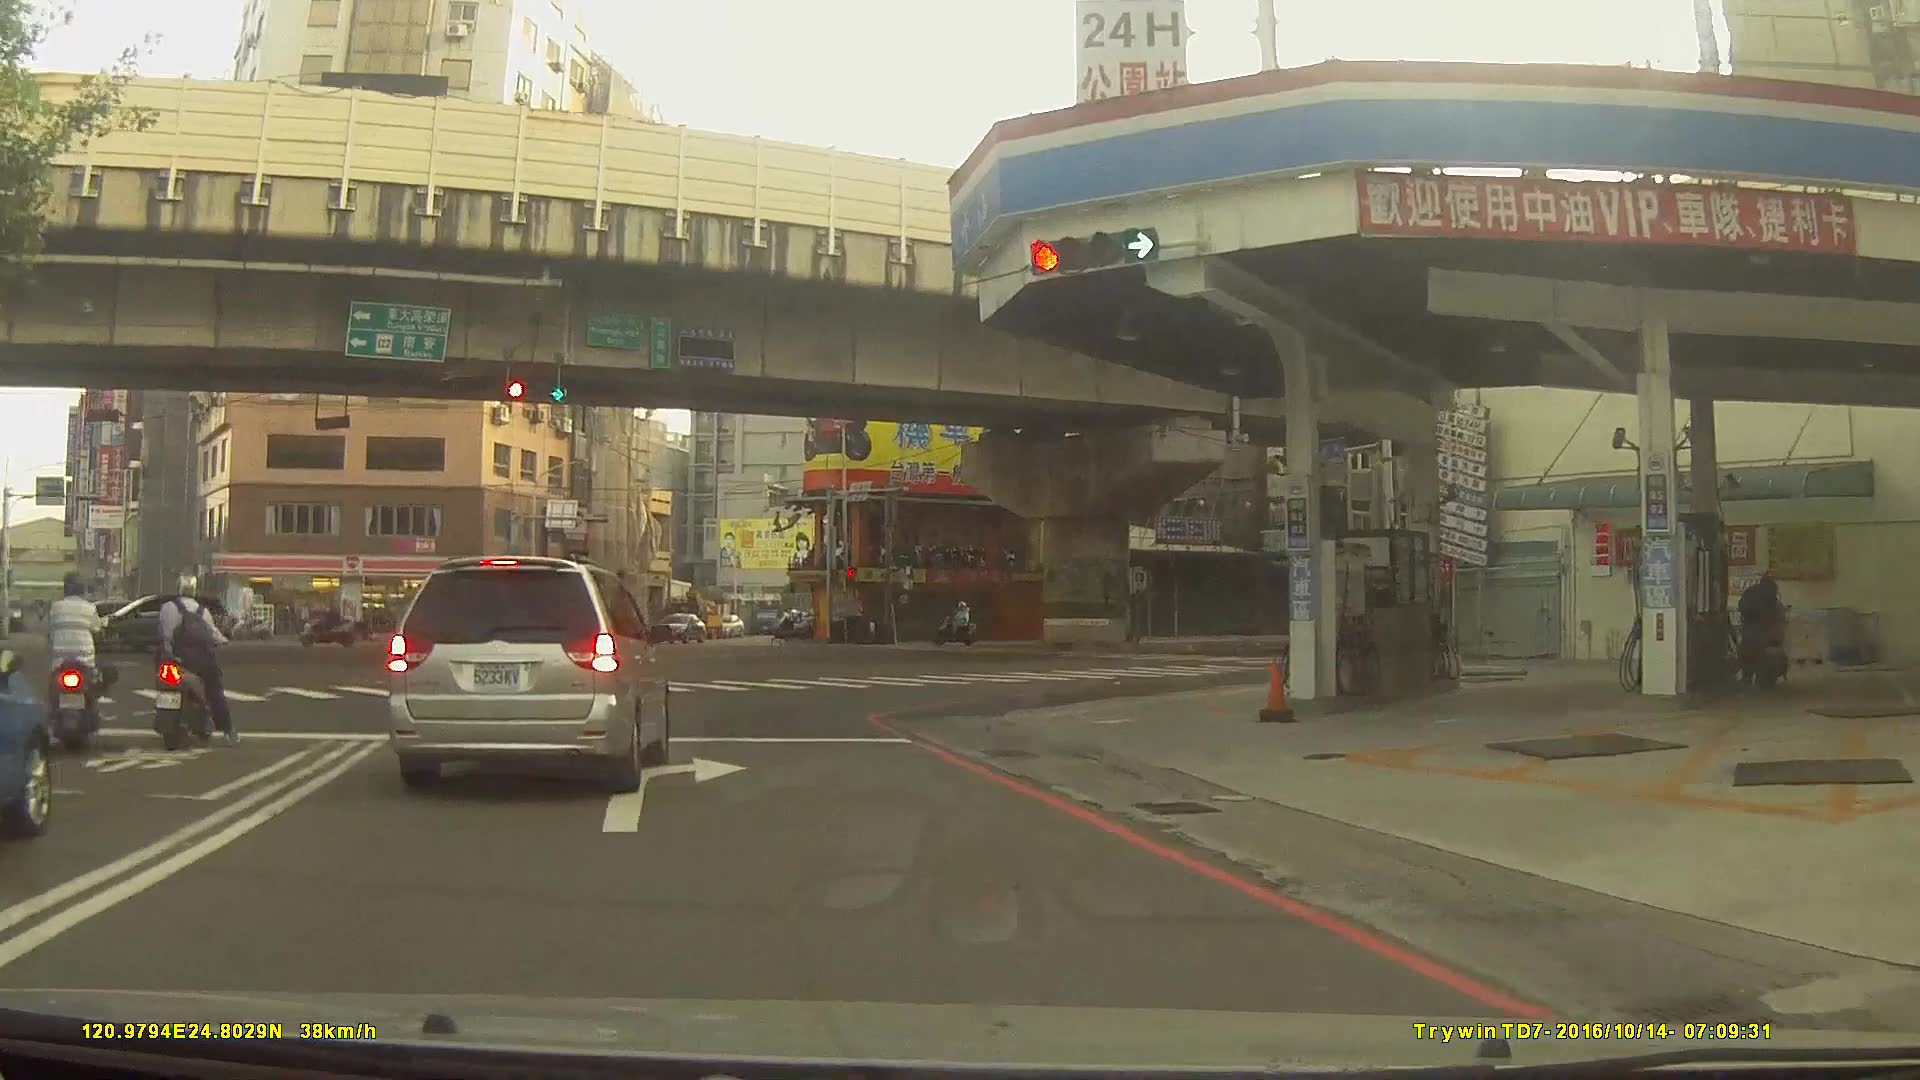rider: (151, 575, 238, 751), (41, 575, 116, 752), (294, 595, 364, 651), (937, 602, 976, 646)
vehicle: (386, 555, 673, 792), (0, 651, 53, 838), (76, 591, 231, 650), (656, 611, 710, 643), (543, 606, 605, 633)
